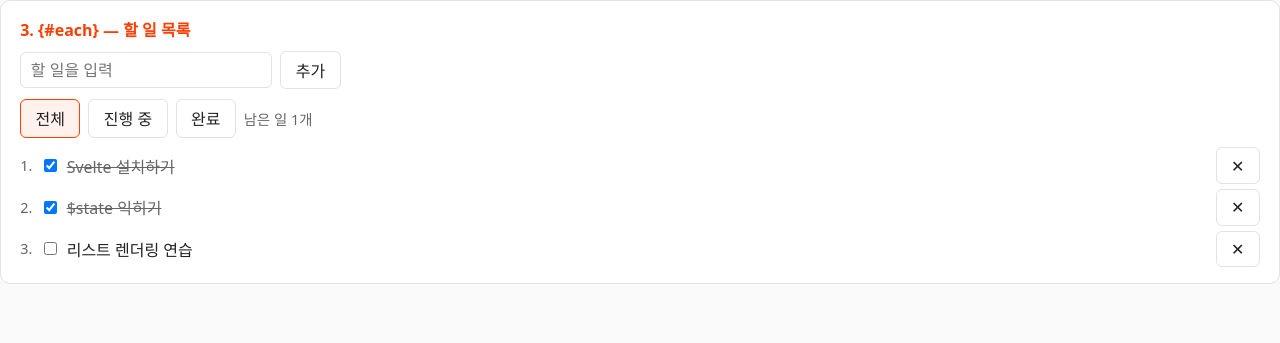
Scenario: TodoList (study4) › 입력하고 추가하면 목록 끝에 생기고 입력창이 비워진다
Type "테스트 작성하기" into the field with placeholder "할 일을 입력" at (146, 70), box [20,52,272,88]
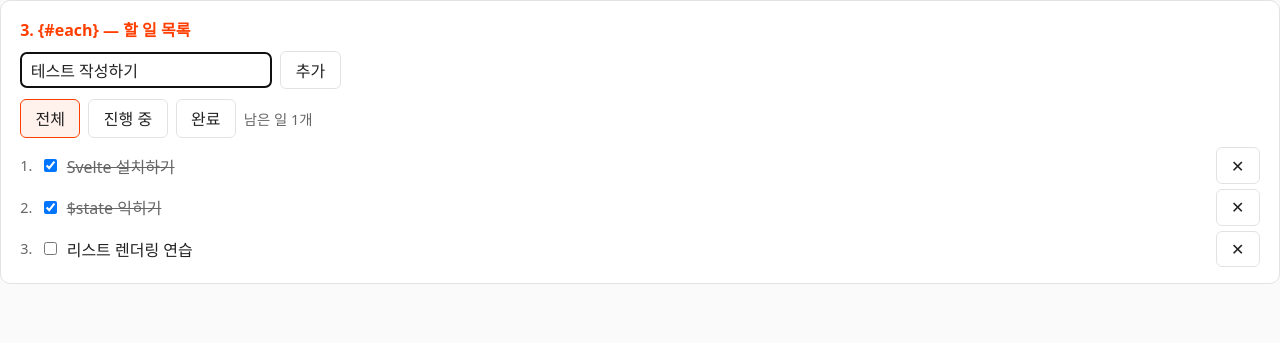
Click the button "추가" at (310, 70), box [280,51,341,89]
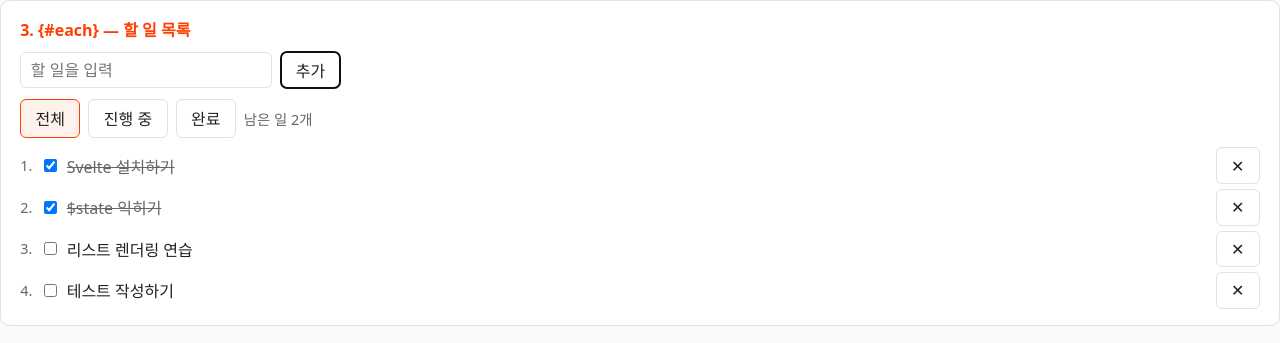
Expected: the text "테스트 작성하기" is shown, [67,278,174,302]
Expected: the number of list items is 4, [20,147,1260,184]; [20,189,1260,226]; [20,230,1260,267]; [20,272,1260,309]
Expected: the text "남은 일 2개" is shown, [244,108,312,129]
